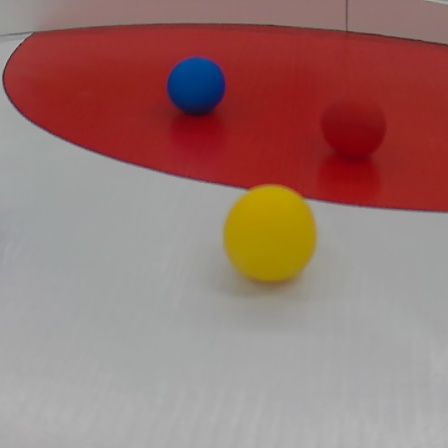blue: (160, 57, 228, 112)
red: (319, 91, 390, 156)
red_base: (4, 17, 448, 214)
yellow: (221, 184, 320, 285)
